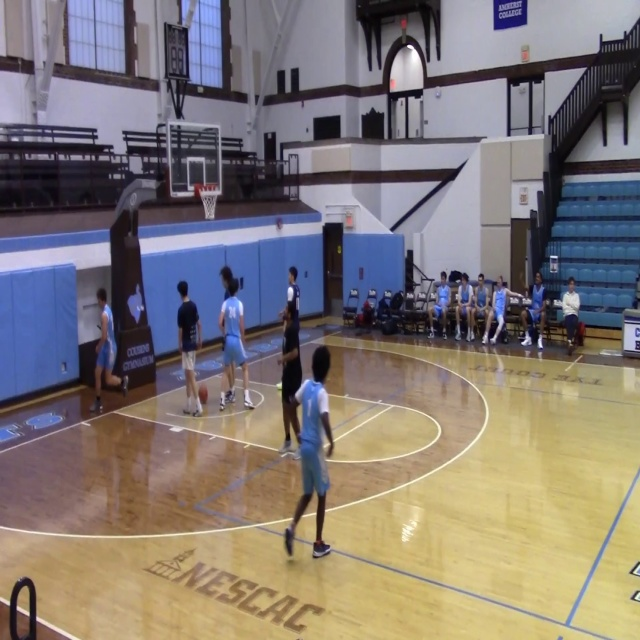Basketball: (198, 383, 208, 404), (276, 381, 282, 391)
